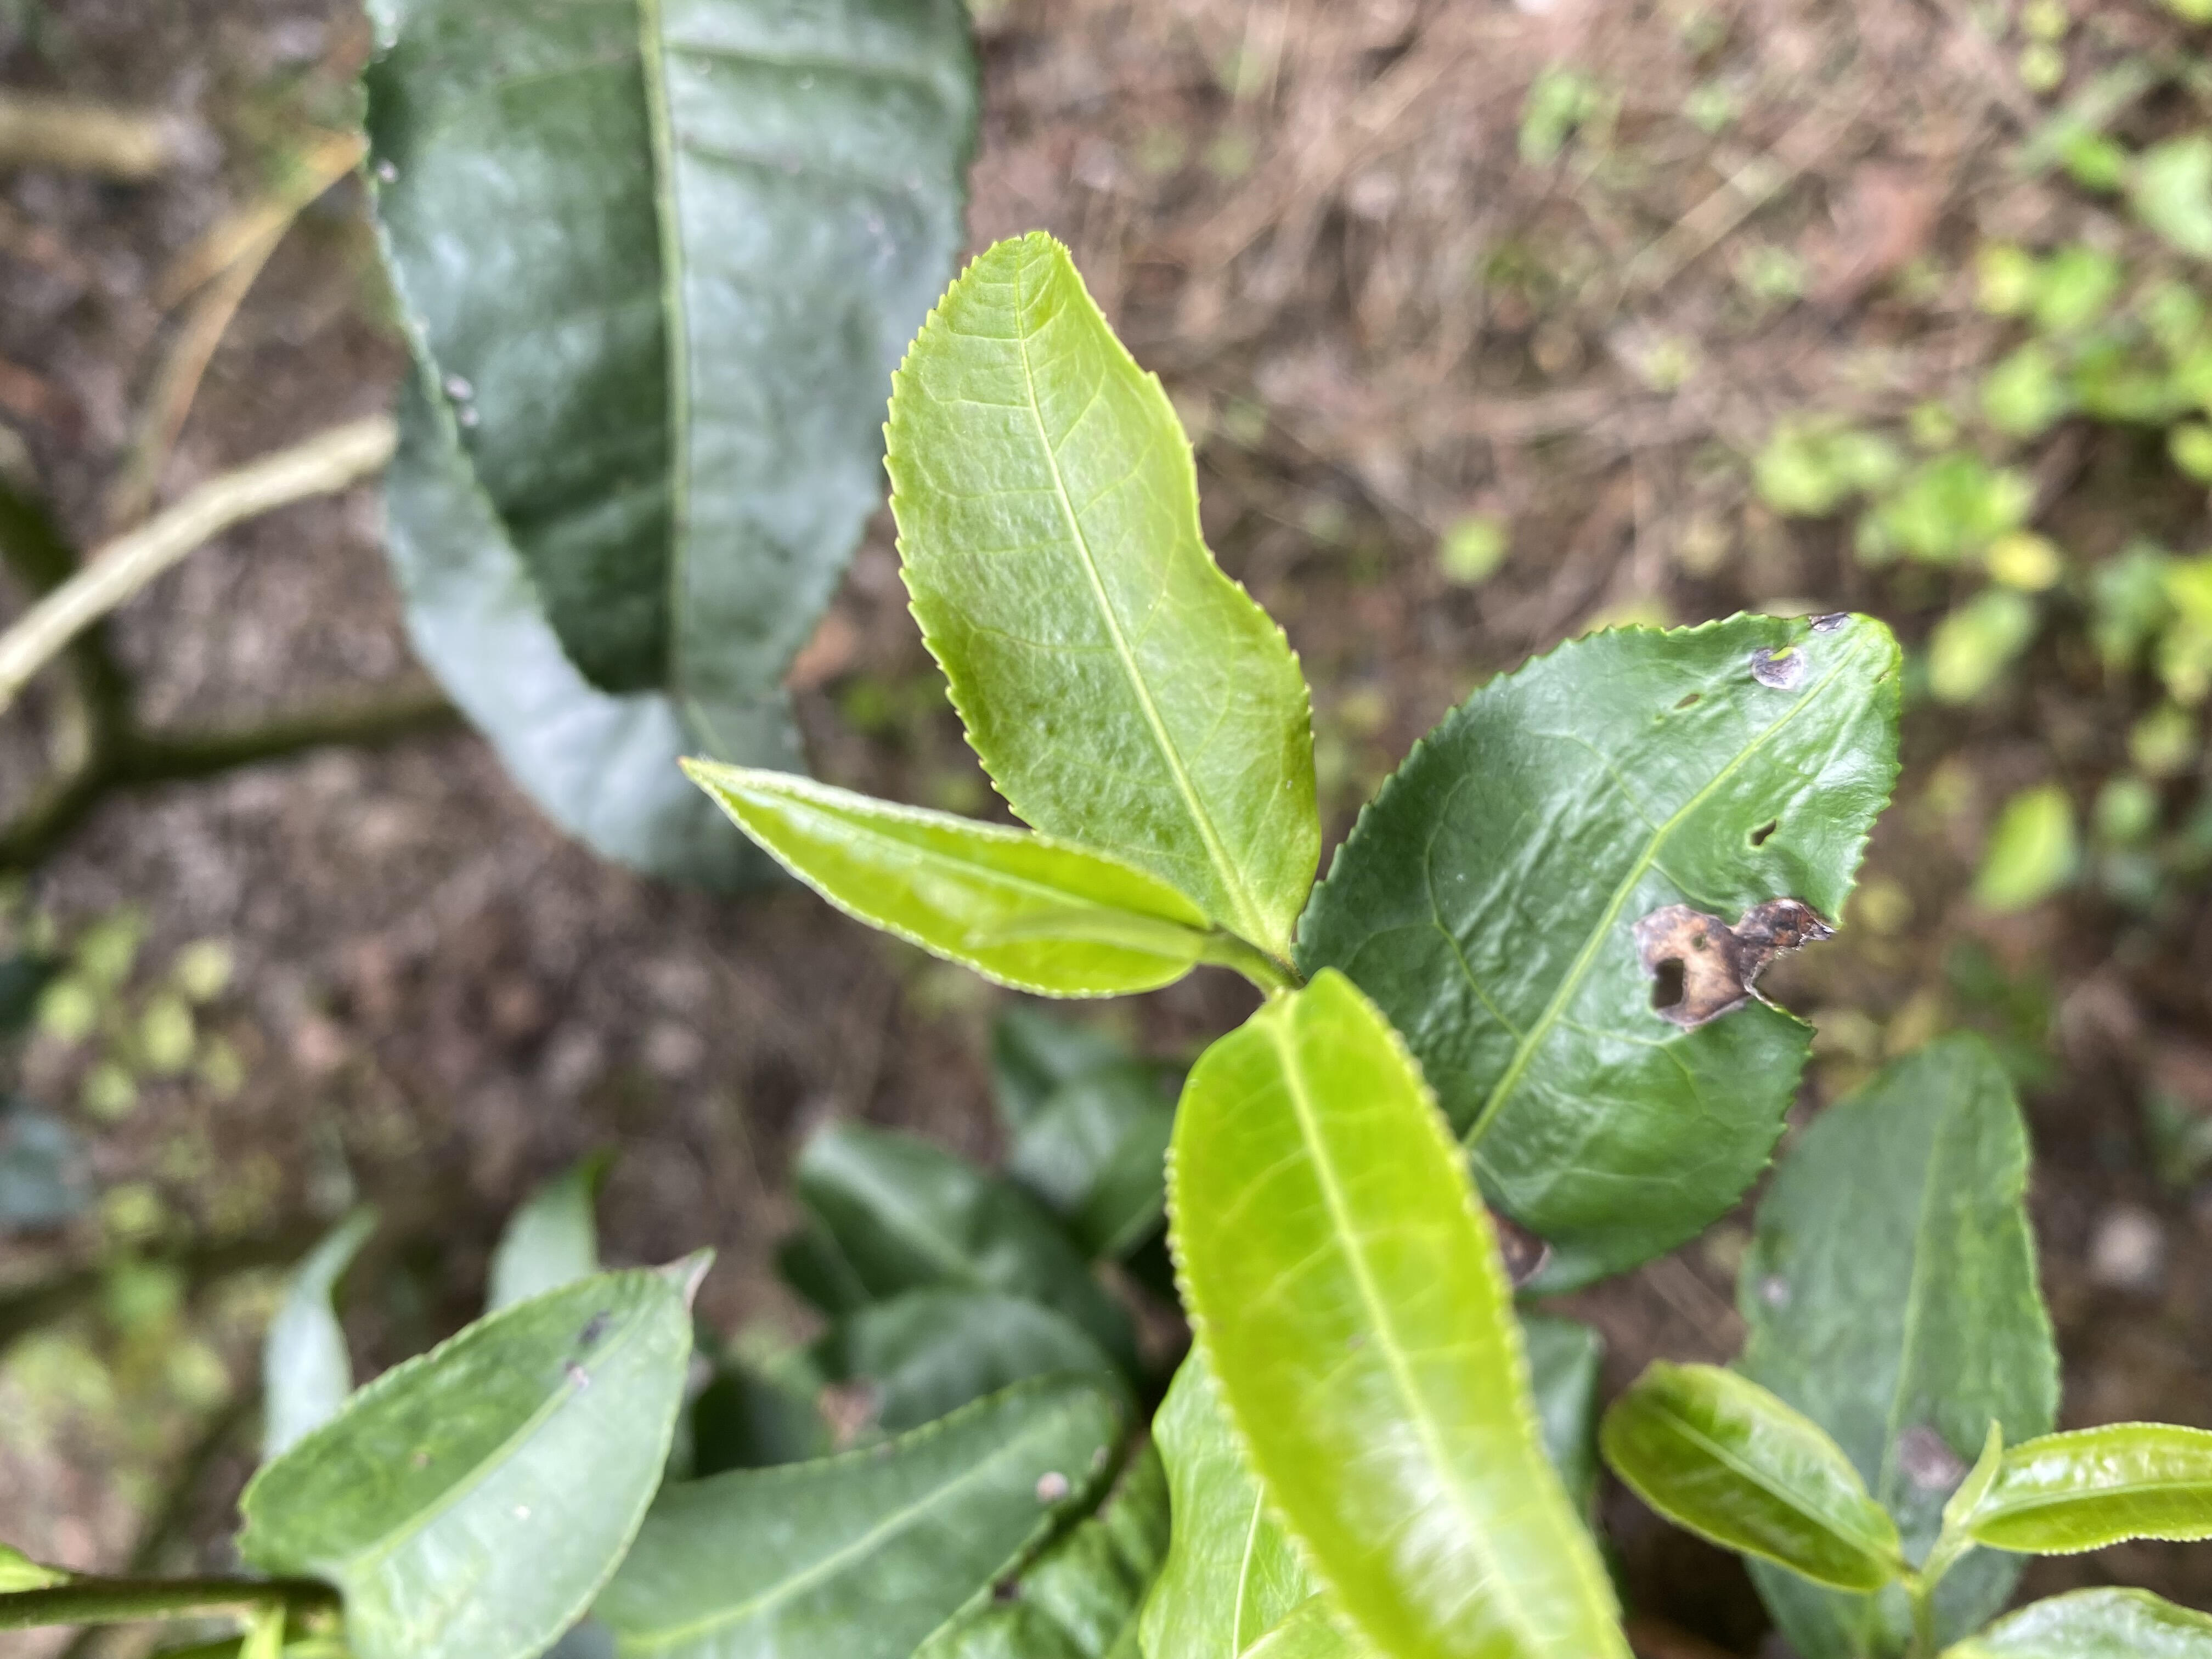healthy: (1157, 962, 1637, 1657), (878, 228, 1324, 945), (678, 755, 1207, 1004), (1594, 1359, 1909, 1598), (1970, 1417, 2212, 1558)
tanju_high: (1291, 606, 1907, 1309), (1731, 1023, 2066, 1652)
